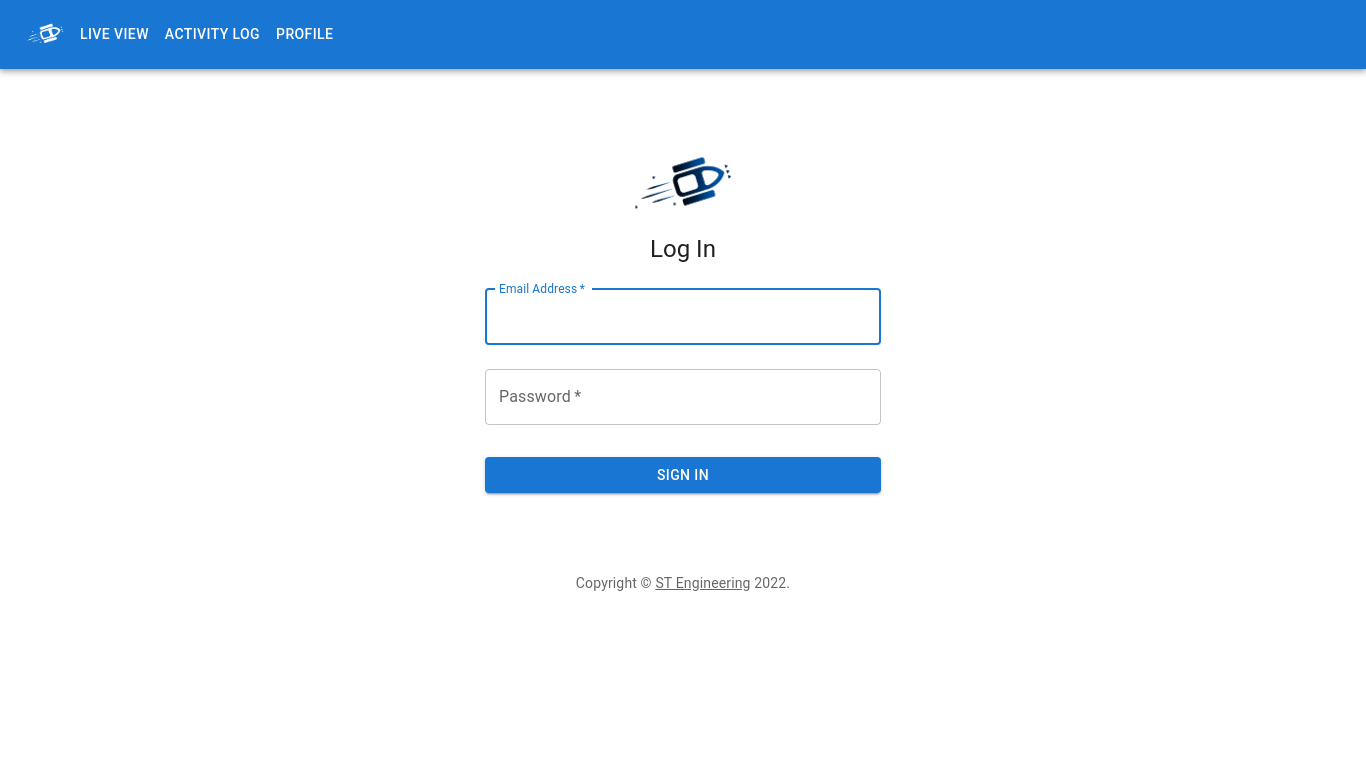
Test our basic auth functions › cannot login without username and password
The width and height of the screenshot is (1366, 768).
Click the button with test id "login-button" at (683,476), box [485,457,881,494]
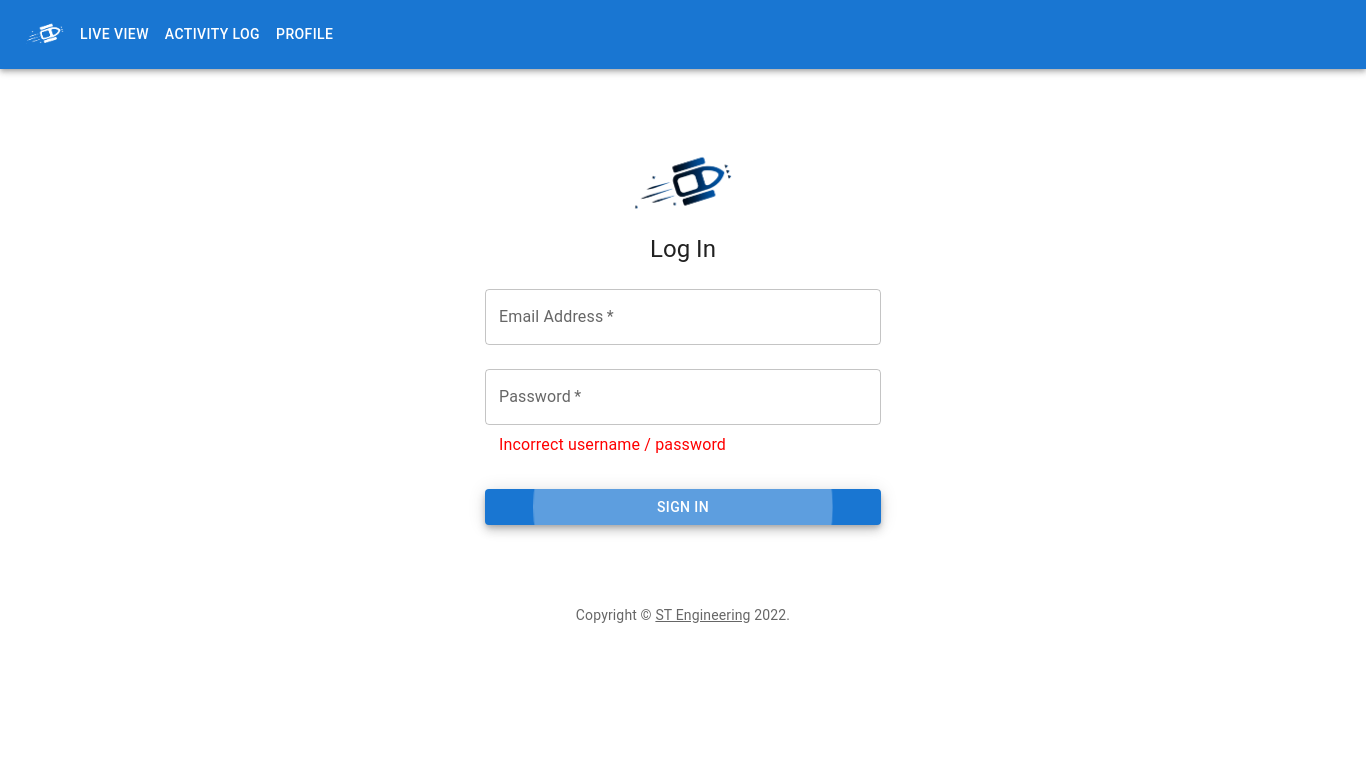
Check: the text with test id "status-text" shows "Incorrect", box [499,435,726,454]
